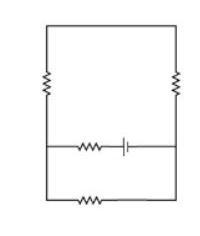resistor: (66, 184, 111, 214), (160, 62, 187, 99), (70, 131, 103, 160), (39, 60, 58, 103)
